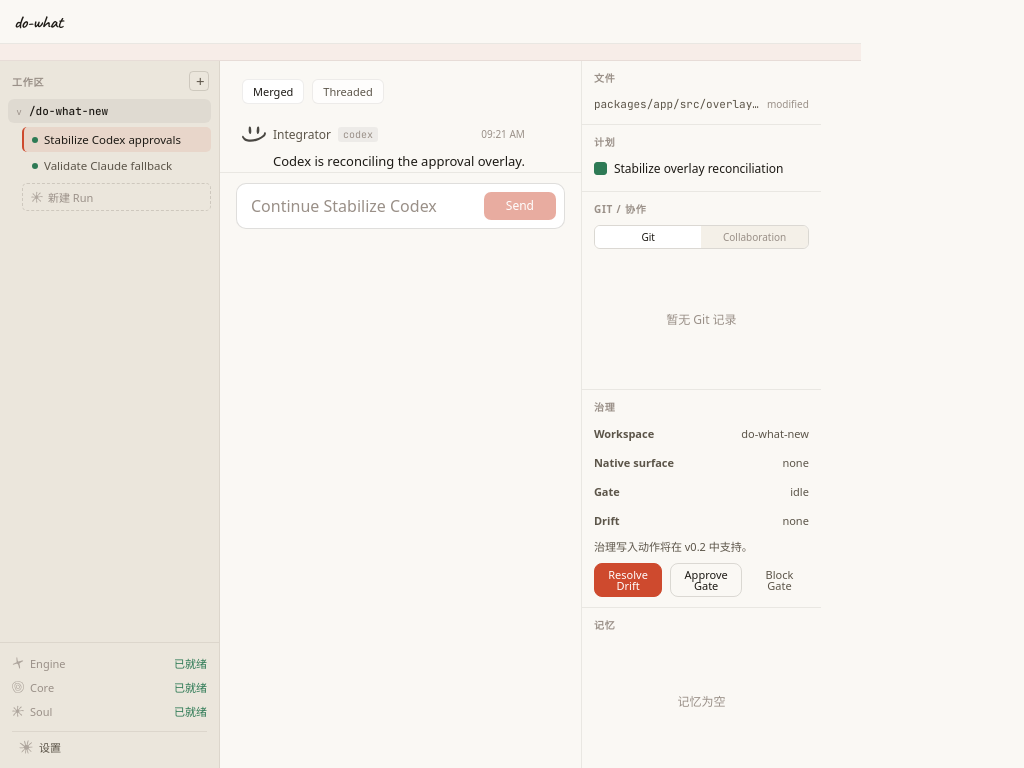
Test case: AppRoot scaffold › switches the active run and keeps the timeline, inspector, and send state in sync
Expected: the text "Codex is reconciling the approval overlay." is shown, [242,151,525,172]
Expected: the text "packages/app/src/overlay-reconciliation.ts" is shown, [594,97,759,111]
Type "Continue with the Codex pass." into the text box with placeholder "Continue Stabilize Codex approvals..." at x=362, y=206, box [249,192,476,220]
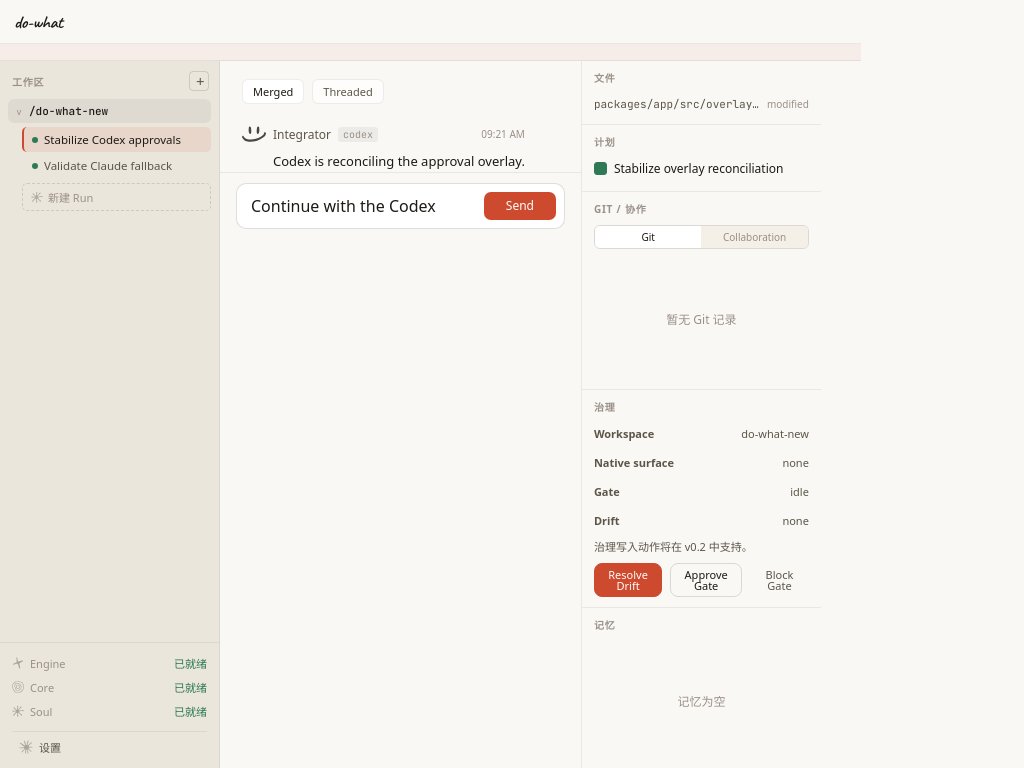
Expected: the button "Send" is enabled, [484,192,556,220]
Click the button "Validate Claude fallback" at x=116, y=166, box [22,153,211,178]
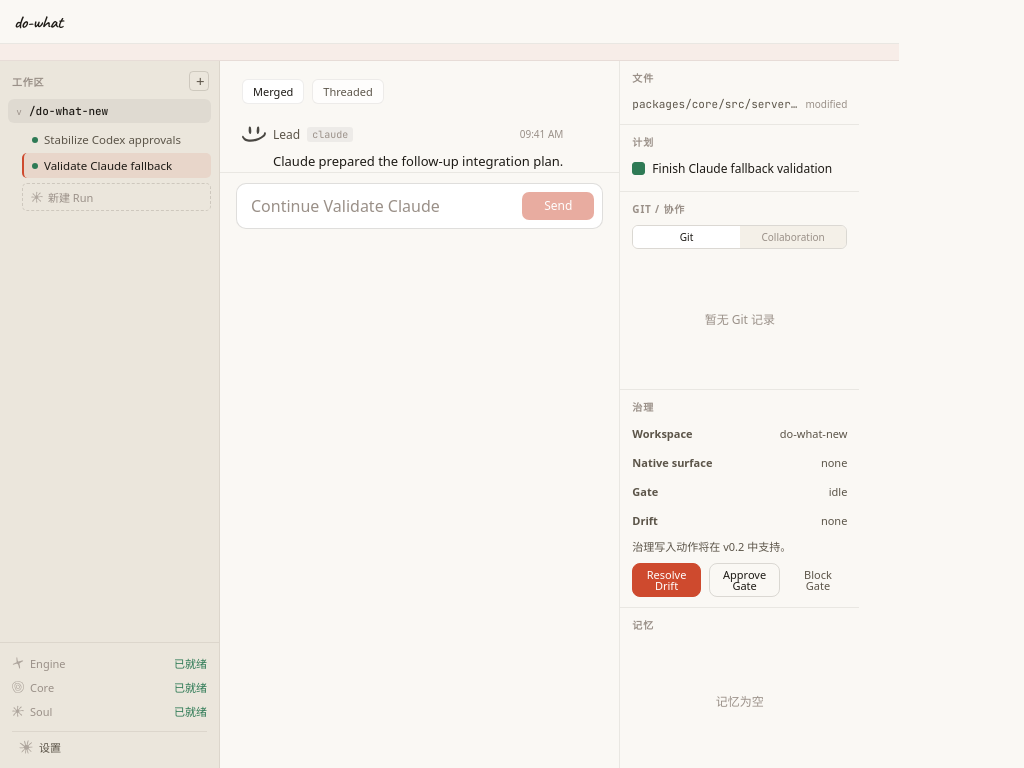
Expected: the text "Claude prepared the follow-up integration plan." is shown, [242,151,563,172]
Expected: the text "packages/core/src/server/module-probe.ts" is shown, [632,97,797,111]
Expected: the text "Finish Claude fallback validation" is shown, [652,161,832,178]
